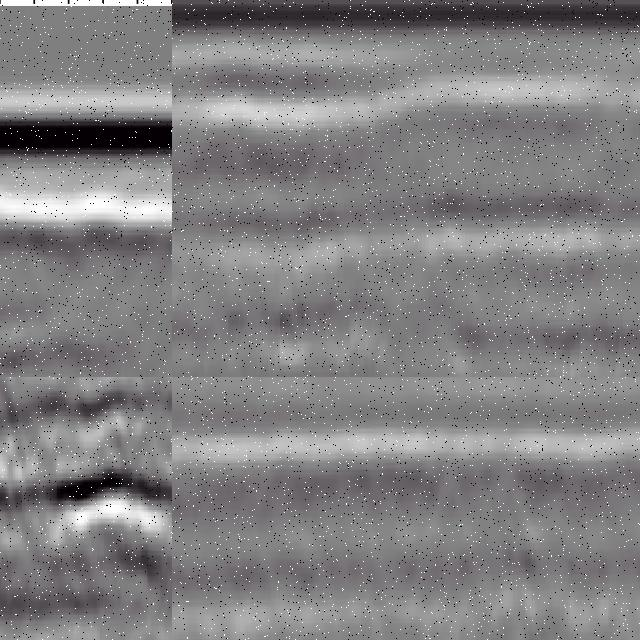loose: (1, 397, 173, 560), (1, 312, 152, 378)
